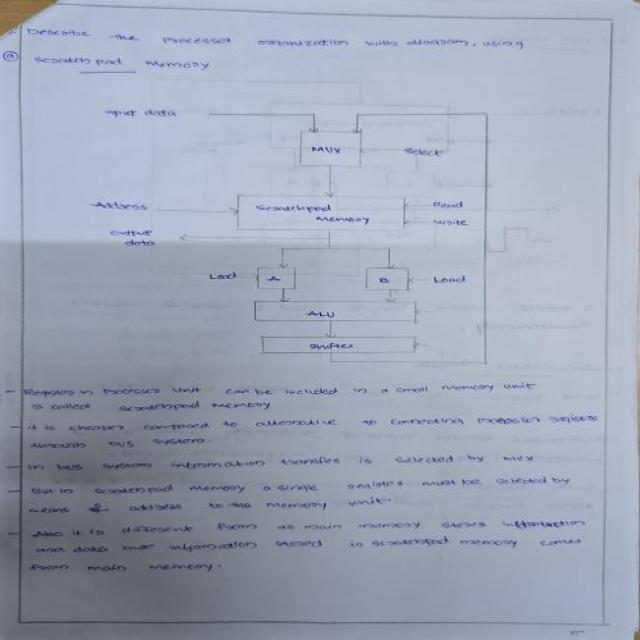Figure Detection - v3 Dataset Version2: (74, 90, 526, 373)
